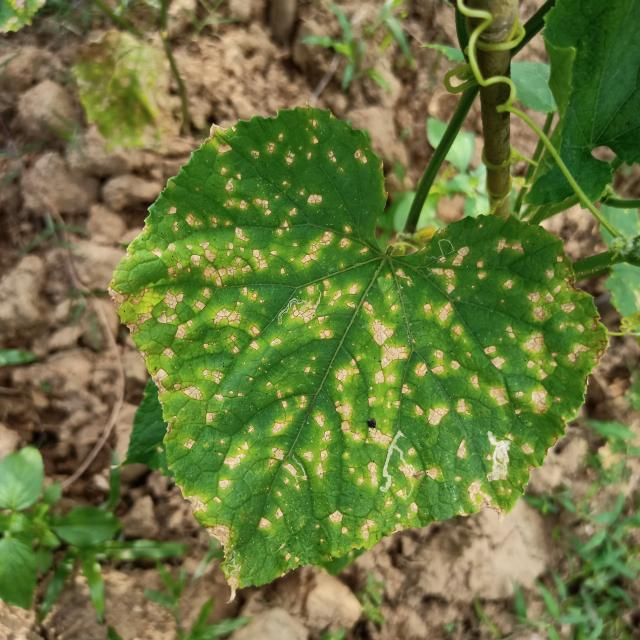disease_cucumber: (128, 127, 576, 579)
